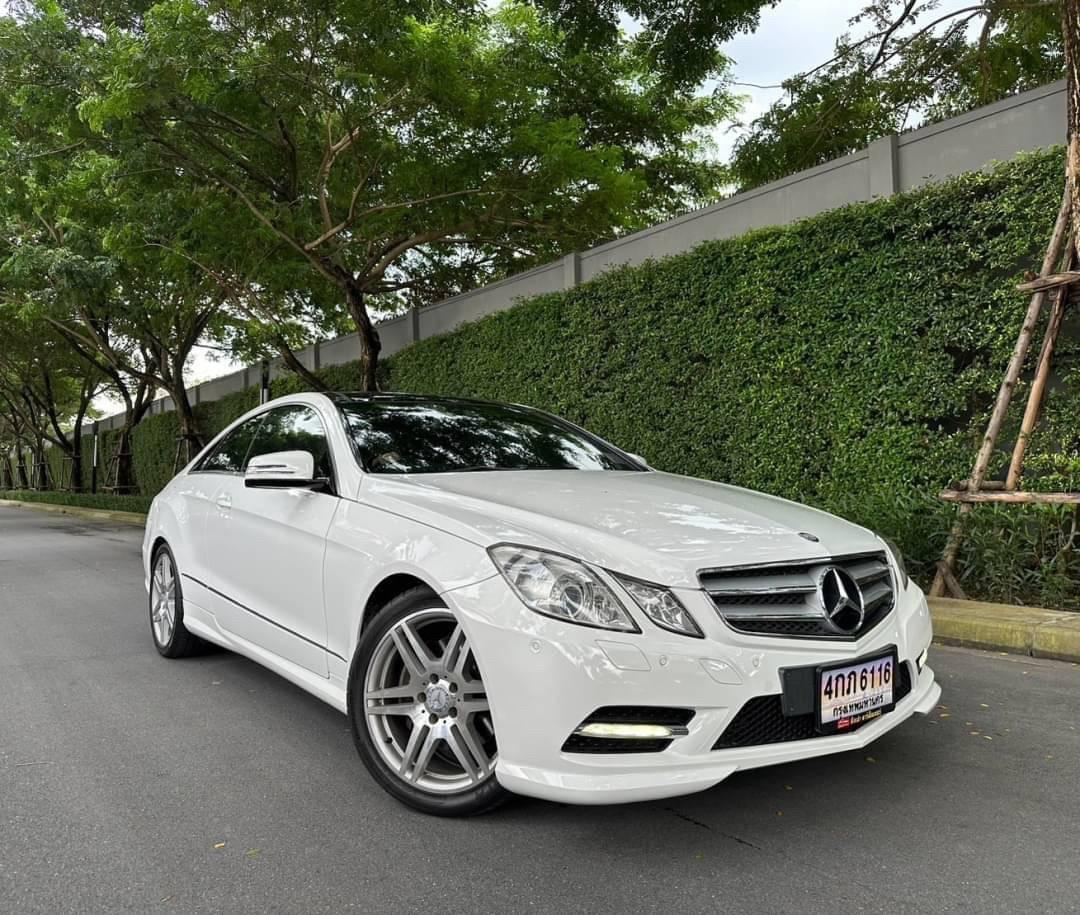license-plate: (815, 647, 902, 741)
